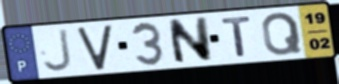3: (130, 20, 165, 67)
J: (41, 27, 75, 74)
N: (166, 15, 215, 66)
Q: (260, 11, 305, 58)
T: (220, 14, 254, 58)
V: (75, 23, 114, 72)
